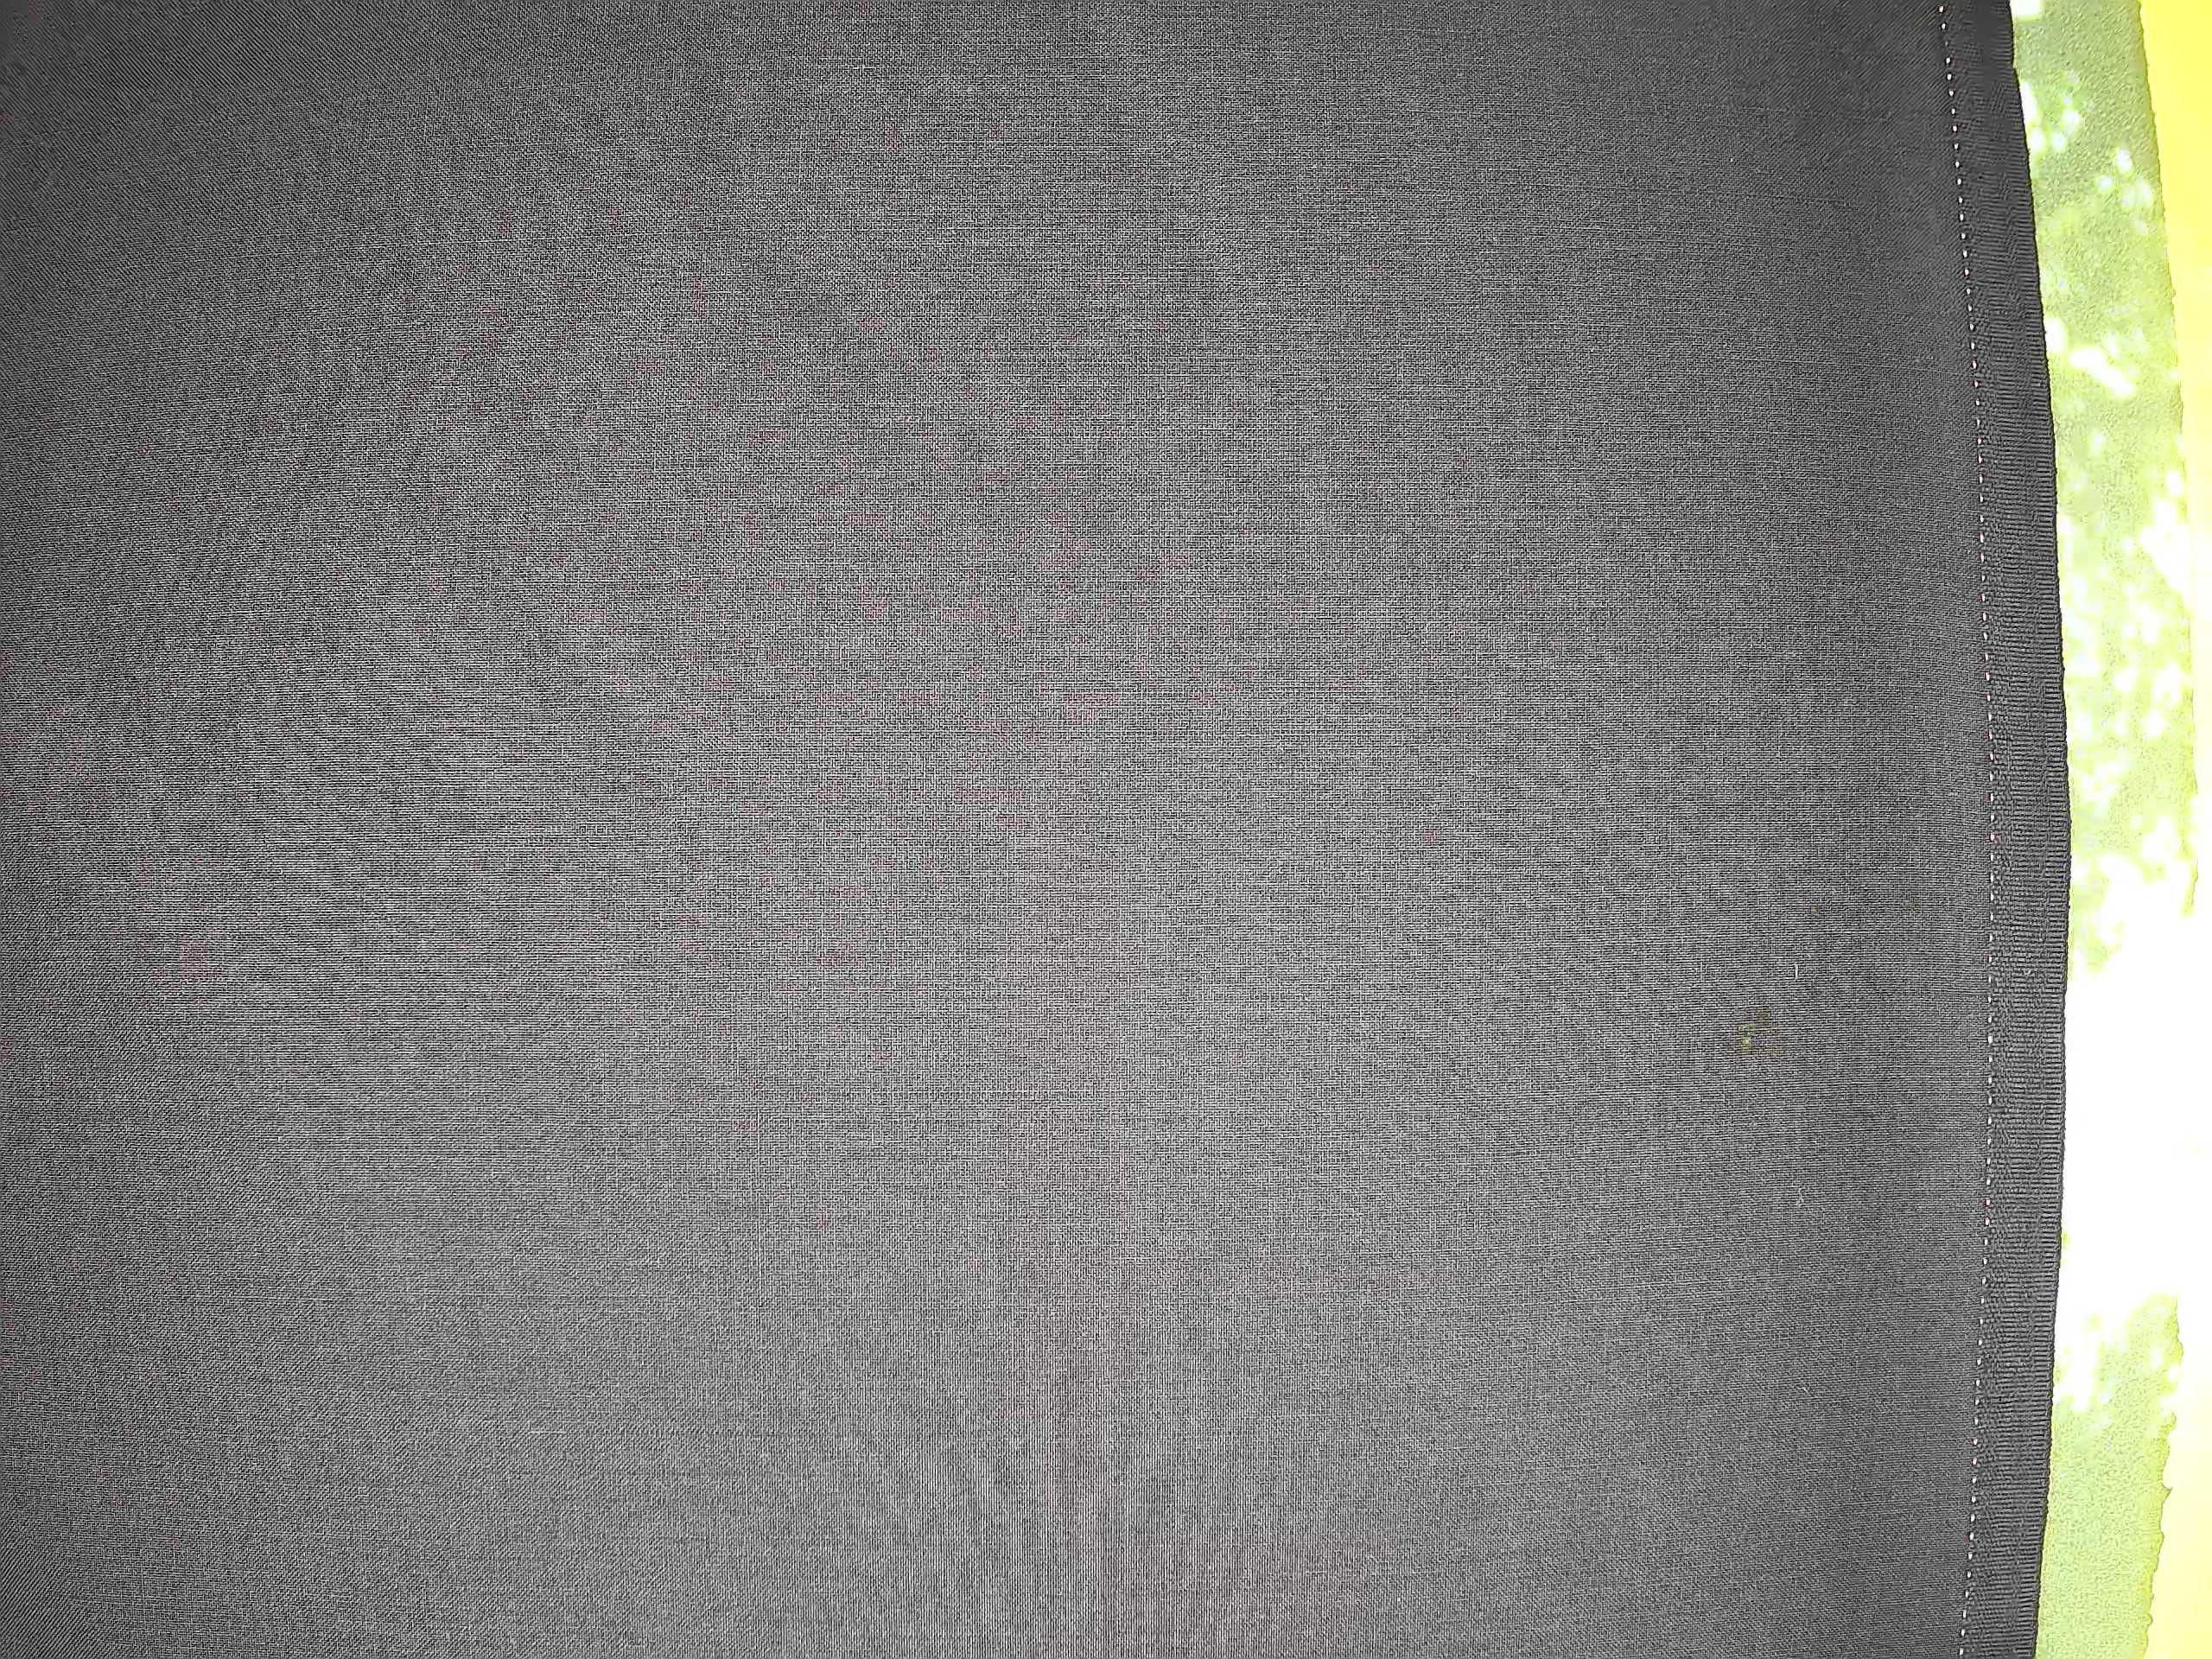others: (1893, 615, 2013, 1615)
